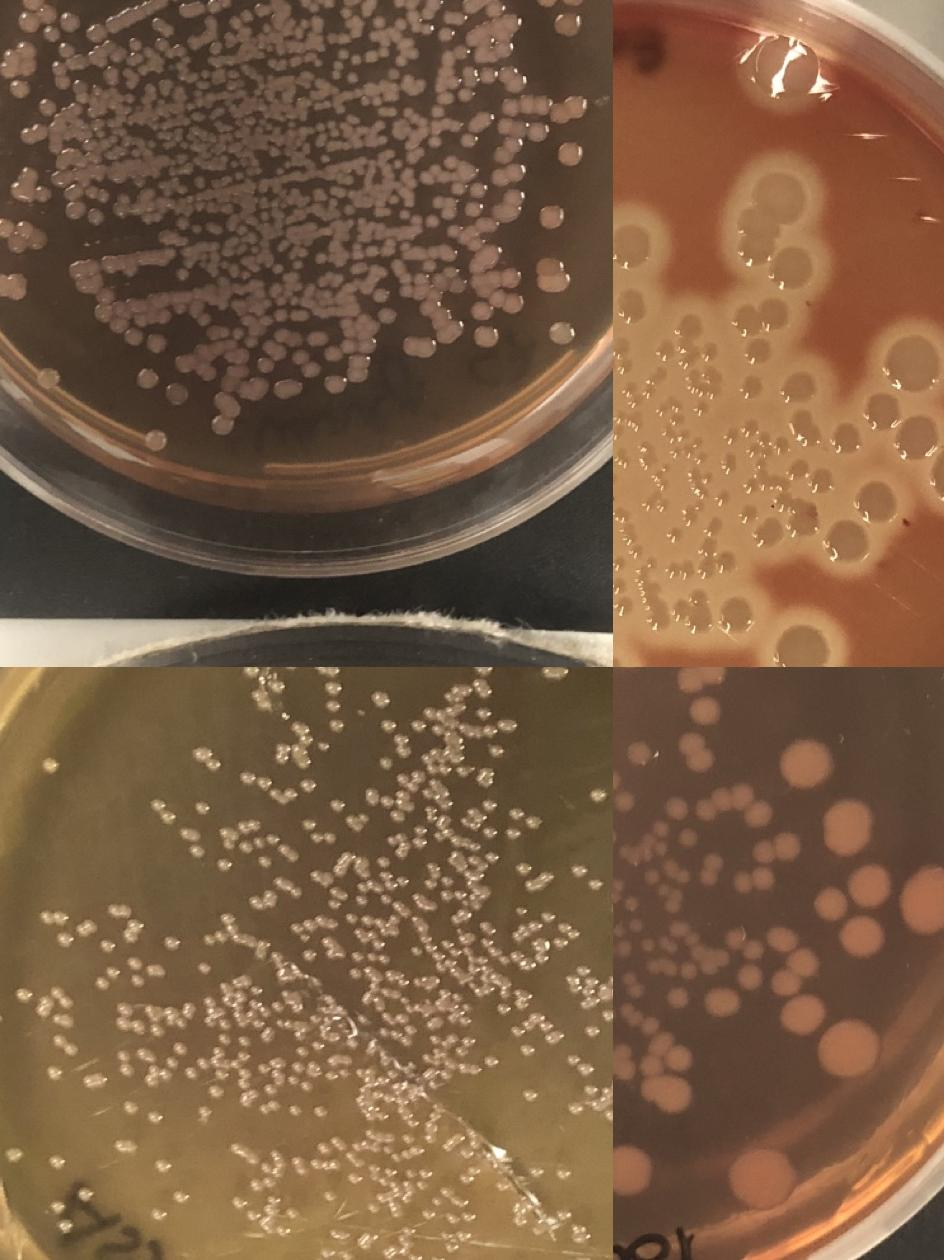assalmonicida: (410, 932, 463, 963), (480, 936, 525, 968), (376, 856, 411, 892), (566, 964, 600, 1000), (287, 1061, 321, 1094), (116, 1001, 146, 1036), (237, 1066, 260, 1107), (237, 769, 274, 792), (446, 1032, 476, 1060), (522, 870, 554, 894), (480, 718, 518, 738), (396, 769, 426, 794), (511, 920, 541, 944), (184, 1057, 212, 1080), (95, 966, 120, 990), (438, 763, 472, 780), (402, 1164, 434, 1182), (49, 986, 74, 1009), (53, 1034, 78, 1056), (291, 920, 312, 946), (166, 1042, 186, 1068), (558, 922, 582, 942), (124, 920, 143, 944), (426, 1018, 442, 1046), (118, 1050, 134, 1078), (202, 929, 228, 946), (314, 912, 337, 931), (440, 874, 455, 903), (395, 732, 411, 758), (258, 1099, 282, 1116), (535, 939, 549, 965), (271, 1056, 285, 1082), (274, 742, 289, 766), (299, 776, 319, 794), (589, 786, 609, 804), (76, 920, 97, 937), (278, 845, 298, 862), (108, 904, 132, 918), (478, 768, 493, 790), (180, 826, 200, 842), (238, 818, 260, 832), (114, 1138, 136, 1152), (474, 704, 493, 720), (487, 742, 507, 757), (147, 963, 167, 978), (556, 1164, 572, 1182), (421, 1206, 437, 1224), (204, 758, 224, 772), (326, 798, 346, 812), (4, 1146, 24, 1160), (50, 1199, 66, 1216), (181, 1002, 197, 1018), (214, 1066, 230, 1082), (123, 1098, 139, 1114), (530, 1164, 546, 1180), (458, 1170, 474, 1186), (77, 1186, 93, 1202), (174, 1188, 190, 1204), (322, 1188, 338, 1204), (366, 1200, 382, 1216), (444, 1210, 460, 1226), (58, 1218, 74, 1234), (476, 684, 494, 698), (37, 910, 55, 924), (360, 990, 376, 1005), (143, 1072, 158, 1088), (155, 1158, 171, 1173), (316, 667, 341, 676), (483, 798, 498, 813), (148, 1110, 164, 1124), (347, 1170, 363, 1184), (152, 1206, 168, 1220), (556, 1206, 572, 1220), (462, 1210, 478, 1224), (358, 1234, 374, 1248), (136, 1046, 151, 1060), (327, 680, 341, 694), (375, 692, 389, 706), (326, 698, 340, 712), (424, 708, 438, 722), (330, 718, 344, 732), (382, 719, 396, 733), (410, 720, 424, 734), (380, 756, 394, 770), (365, 790, 379, 804), (510, 808, 524, 822), (391, 810, 405, 824), (482, 826, 496, 840), (485, 851, 499, 865), (218, 858, 232, 872), (517, 862, 531, 876), (423, 878, 437, 892), (590, 878, 604, 892), (380, 893, 394, 907), (327, 897, 341, 911), (515, 904, 529, 918), (541, 910, 555, 924), (221, 911, 235, 925), (344, 911, 358, 925), (478, 920, 492, 934), (56, 933, 70, 947), (164, 936, 178, 950), (554, 936, 568, 950), (101, 940, 115, 954), (303, 948, 317, 962), (128, 956, 142, 970), (199, 964, 213, 978), (349, 966, 363, 980), (132, 974, 146, 988), (250, 986, 264, 1000), (16, 989, 30, 1003), (234, 990, 248, 1004), (496, 1003, 510, 1017), (59, 1014, 73, 1028), (539, 1020, 553, 1034), (511, 1024, 525, 1038), (587, 1024, 601, 1038), (262, 1028, 276, 1042), (218, 1032, 232, 1046), (297, 1046, 311, 1060), (566, 1053, 580, 1067), (485, 1056, 499, 1070), (255, 1062, 269, 1076), (439, 1068, 453, 1082), (524, 1088, 538, 1102), (568, 1100, 582, 1114), (199, 1104, 213, 1118), (286, 1206, 300, 1220), (507, 826, 520, 840), (260, 854, 273, 868), (355, 893, 368, 907), (458, 908, 471, 922), (388, 914, 402, 927), (352, 950, 366, 963), (202, 996, 216, 1009), (272, 1001, 286, 1014), (237, 1032, 250, 1046), (523, 1044, 536, 1058), (237, 1050, 250, 1064), (458, 1061, 471, 1075), (279, 708, 291, 722), (294, 722, 308, 734), (432, 722, 444, 736), (382, 794, 394, 808), (528, 815, 540, 829), (304, 818, 316, 832), (324, 832, 338, 844), (574, 864, 586, 878), (380, 952, 392, 966), (460, 1014, 472, 1028), (151, 1024, 165, 1036), (404, 1024, 418, 1036), (48, 1066, 60, 1080), (264, 1082, 276, 1096), (210, 1084, 222, 1098), (288, 1104, 300, 1118), (314, 1106, 328, 1118), (151, 798, 163, 811), (254, 836, 266, 849), (241, 841, 253, 854), (319, 740, 331, 752), (197, 802, 209, 814), (310, 832, 322, 844), (268, 832, 280, 844), (223, 838, 235, 850), (192, 846, 204, 858), (362, 914, 374, 926), (474, 986, 486, 998), (516, 999, 528, 1011), (403, 1003, 415, 1015), (446, 1013, 458, 1025), (378, 1026, 390, 1038), (346, 1036, 358, 1048), (313, 1040, 325, 1052), (421, 1053, 433, 1065), (51, 1156, 63, 1168), (603, 1008, 613, 1022), (44, 760, 56, 771), (461, 1001, 473, 1012), (606, 1109, 613, 1123), (610, 972, 613, 986)
pddamselae: (738, 204, 814, 292), (780, 368, 822, 450), (759, 40, 813, 98), (887, 335, 941, 393), (775, 624, 830, 667), (895, 416, 939, 462), (824, 520, 868, 566), (856, 480, 898, 526), (613, 225, 652, 271), (734, 304, 788, 336), (862, 392, 902, 432), (811, 883, 849, 925), (614, 290, 650, 326), (831, 420, 867, 456), (721, 598, 757, 634), (645, 606, 673, 634), (675, 315, 703, 342), (744, 342, 772, 368), (738, 376, 766, 402), (809, 468, 837, 494), (752, 524, 780, 550), (932, 444, 944, 502)
vharveyi: (0, 39, 37, 99), (94, 303, 144, 347), (490, 147, 526, 188), (306, 328, 344, 365), (50, 40, 77, 92), (8, 165, 42, 203), (41, 12, 80, 44), (290, 348, 325, 383), (329, 48, 364, 81), (370, 286, 398, 326), (552, 94, 588, 125), (66, 202, 106, 226), (435, 88, 479, 107), (134, 365, 162, 392), (472, 323, 499, 350), (557, 140, 583, 168), (34, 365, 60, 392), (322, 372, 349, 398), (538, 203, 564, 229), (549, 321, 575, 347), (164, 381, 190, 407), (211, 412, 237, 438), (143, 427, 169, 453), (555, 13, 581, 38), (25, 229, 51, 253), (403, 338, 437, 356), (253, 356, 278, 376), (446, 276, 470, 296), (229, 158, 246, 182), (36, 97, 56, 117), (502, 97, 522, 117), (528, 123, 548, 143), (441, 151, 461, 171), (273, 158, 293, 178), (504, 188, 524, 208), (148, 334, 168, 354), (437, 26, 459, 44), (0, 217, 16, 241), (422, 211, 441, 231), (503, 268, 522, 288), (504, 293, 523, 313), (471, 300, 490, 320), (174, 354, 194, 373), (20, 126, 38, 146), (460, 132, 480, 150), (426, 133, 444, 153), (0, 271, 10, 295), (314, 250, 326, 268), (346, 72, 360, 86), (327, 196, 341, 210), (191, 222, 203, 238), (195, 175, 207, 190), (395, 56, 409, 68), (147, 136, 159, 150), (319, 153, 333, 165), (342, 175, 356, 187), (387, 194, 401, 206), (343, 204, 357, 216), (398, 210, 412, 222), (291, 258, 305, 270), (271, 263, 285, 275), (240, 268, 252, 282), (176, 268, 188, 282), (387, 68, 400, 80), (199, 68, 211, 81), (185, 102, 197, 114), (286, 118, 298, 130), (314, 121, 326, 133), (130, 146, 142, 158), (260, 210, 272, 222), (236, 224, 248, 236), (249, 244, 261, 256), (218, 258, 230, 270), (538, 0, 558, 7), (166, 0, 186, 4)
